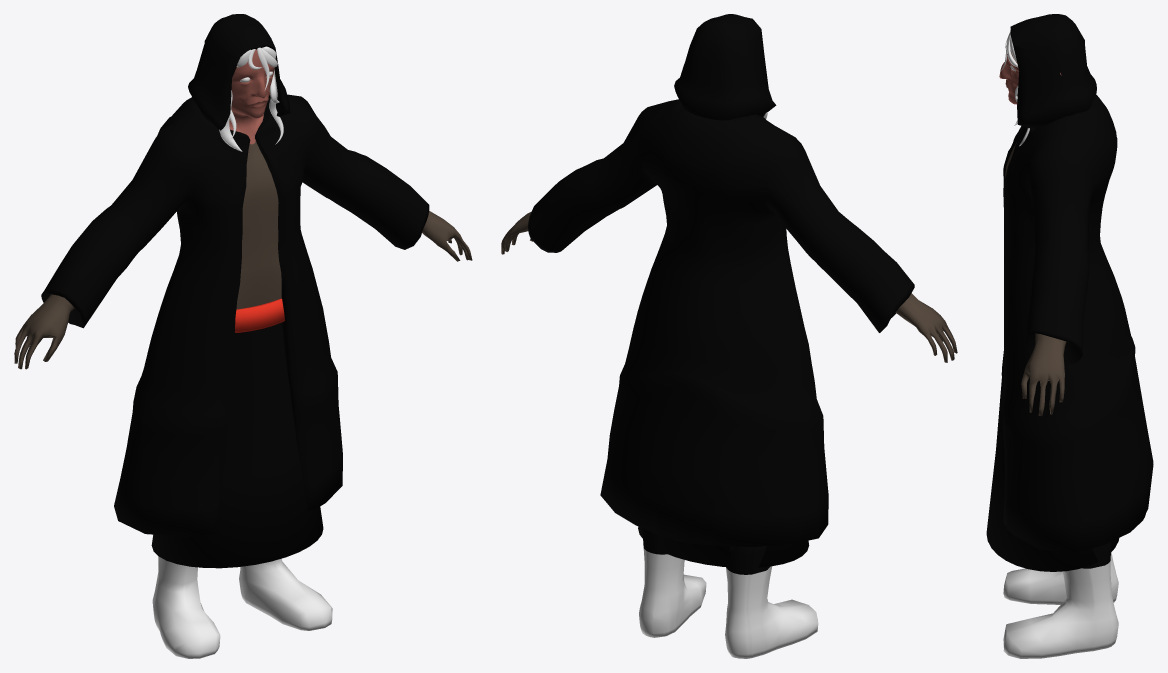
File: Model_Douglass.fbx
3 renders of one model, left to right at view 1: azimuth 30°, elevation 25°; view 2: azimuth 150°, elevation 25°; view 3: azimuth 270°, elevation 25°, orthographic.
Parts seen in each view (by area): view 1: Main, Circle, Main.001, NurbsPath; view 2: Main, Main.001, Circle; view 3: Main, Main.001, Circle, NurbsPath.
Part boxes in pixels (x1,y1,x2,y2): Main: [14, 49, 472, 658]; Circle: [151, 298, 323, 568]; Main.001: [188, 14, 290, 131]; NurbsPath: [219, 46, 283, 151]; Main: [501, 99, 957, 658]; Main.001: [674, 14, 776, 120]; Circle: [638, 526, 809, 567]; Main: [999, 50, 1153, 658]; Main.001: [1010, 14, 1096, 131]; Circle: [986, 356, 1119, 571]; NurbsPath: [1000, 30, 1029, 146].
Bounding box in the file's own units: 142 × 184 × 46.01.
